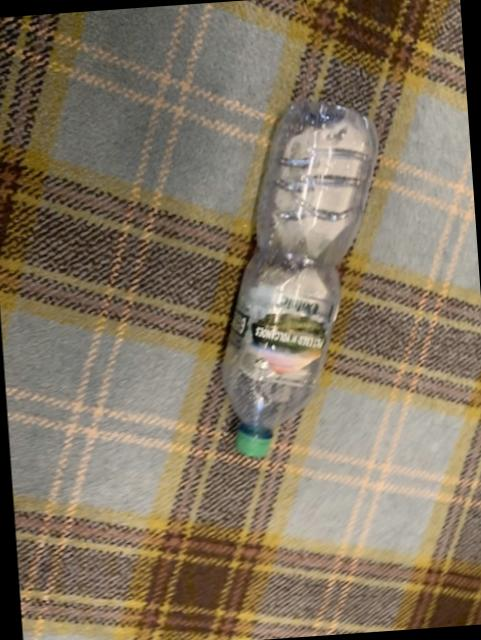plastic: (223, 102, 378, 456)
